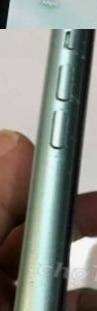scratch: (40, 29, 96, 209), (16, 245, 51, 311), (54, 239, 73, 260)
